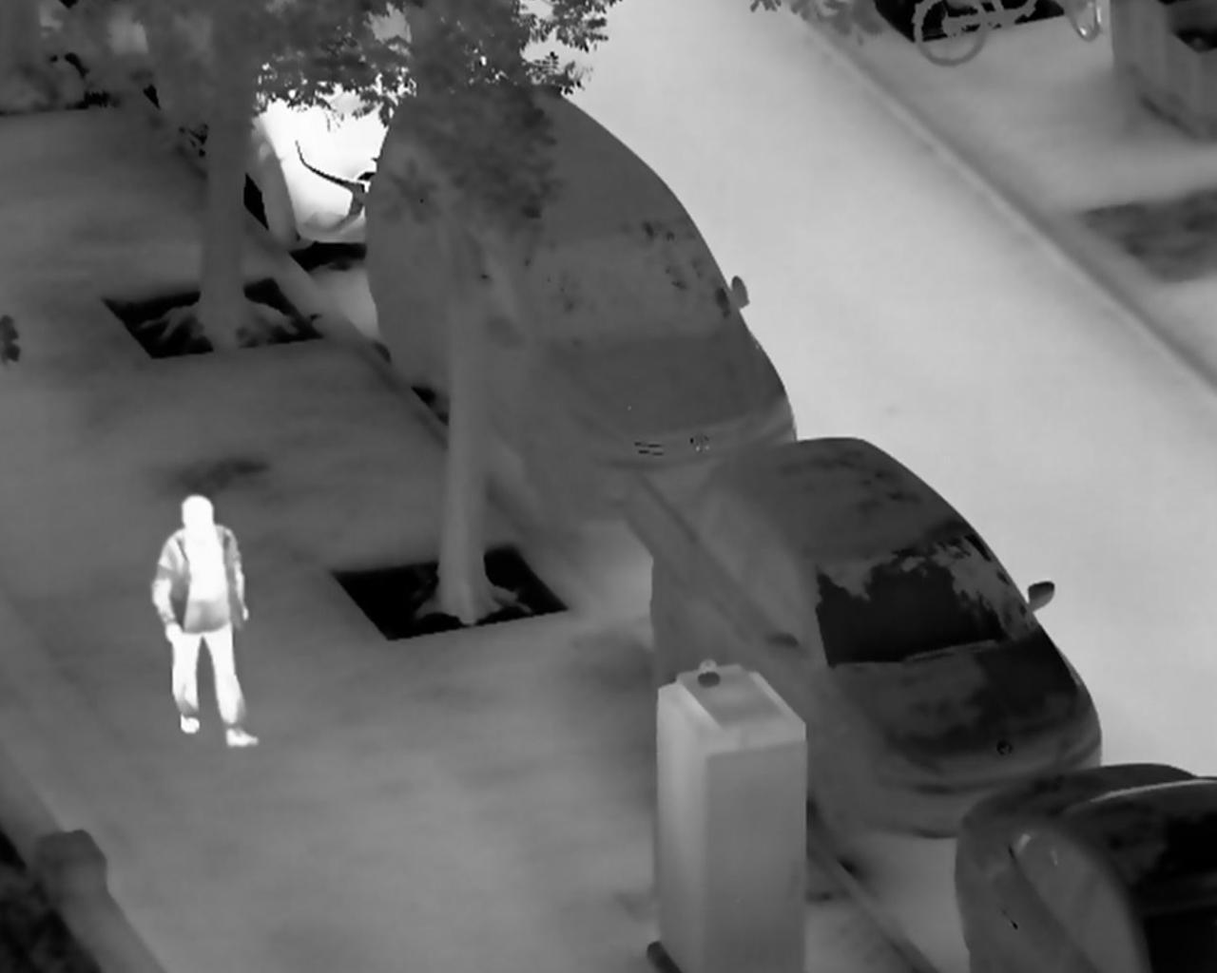person: (148, 493, 259, 747)
